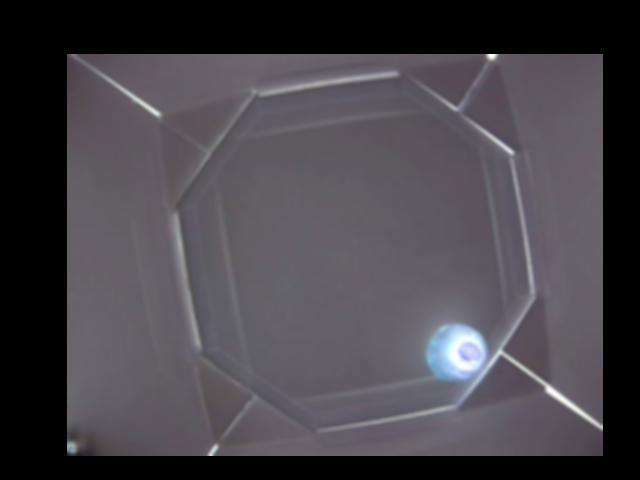Carrot: (427, 322, 486, 380)
